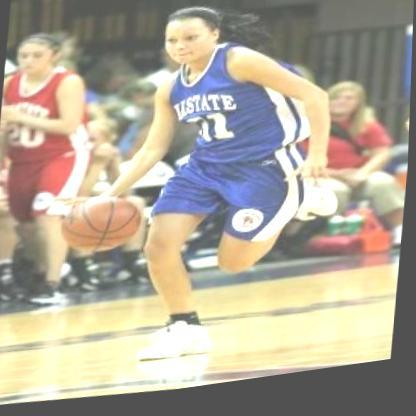basketball: (57, 187, 149, 269)
